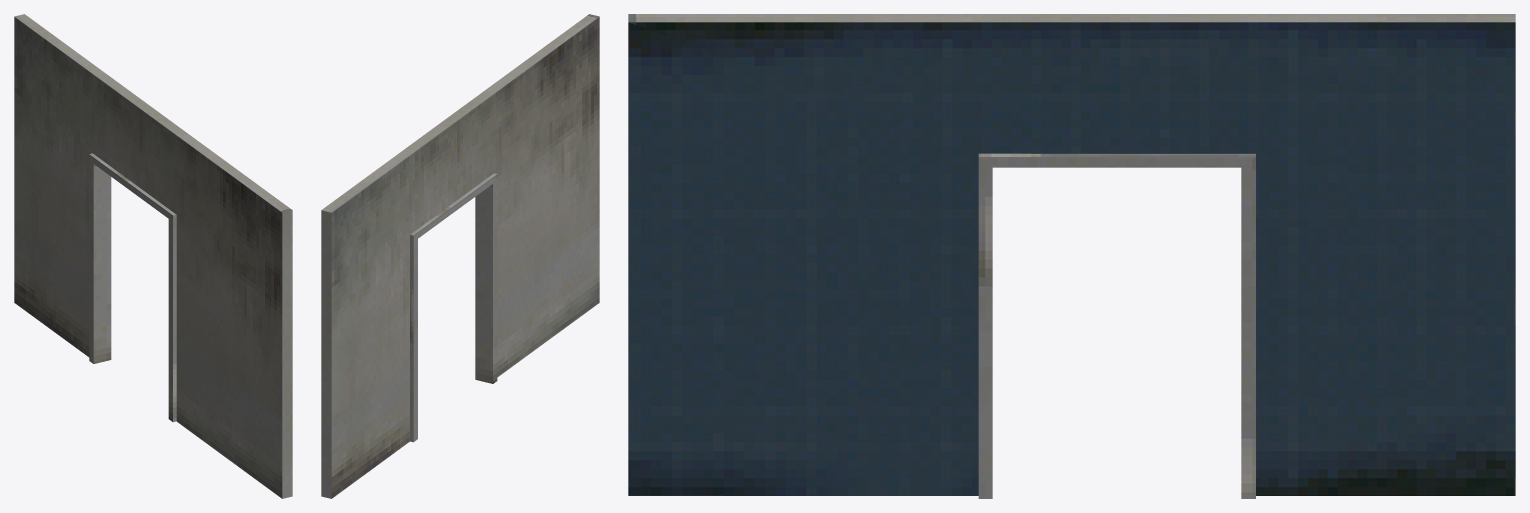
File: SM_MorgueRoom_Doorway_S.fbx
3 views of the same model, side by side, from view 1: azimuth 30°, elevation 25°; view 2: azimuth 150°, elevation 25°; view 3: azimuth 270°, elevation 25° (orthographic). The views are drawn at different scales.
Parts seen in each view (by area): view 1: SM_MorgueRoom_Doorway_S; view 2: SM_MorgueRoom_Doorway_S; view 3: SM_MorgueRoom_Doorway_S.
Boxes of the visible parts, x1,y1,x2,y2 form: SM_MorgueRoom_Doorway_S: (14, 14, 292, 498); SM_MorgueRoom_Doorway_S: (321, 14, 599, 498); SM_MorgueRoom_Doorway_S: (628, 14, 1515, 498).
Size of the model in its own units: 19.51 by 300 by 509.
